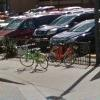Bicycle: (16, 41, 78, 72)
